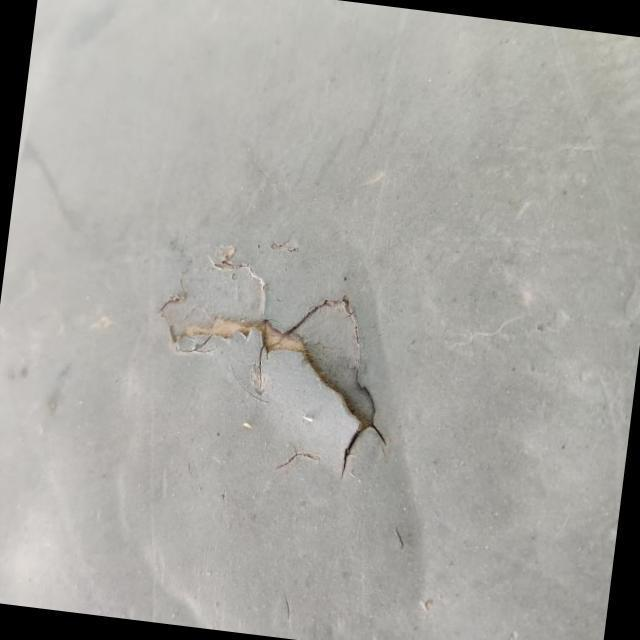Rupture: (126, 218, 426, 511)
